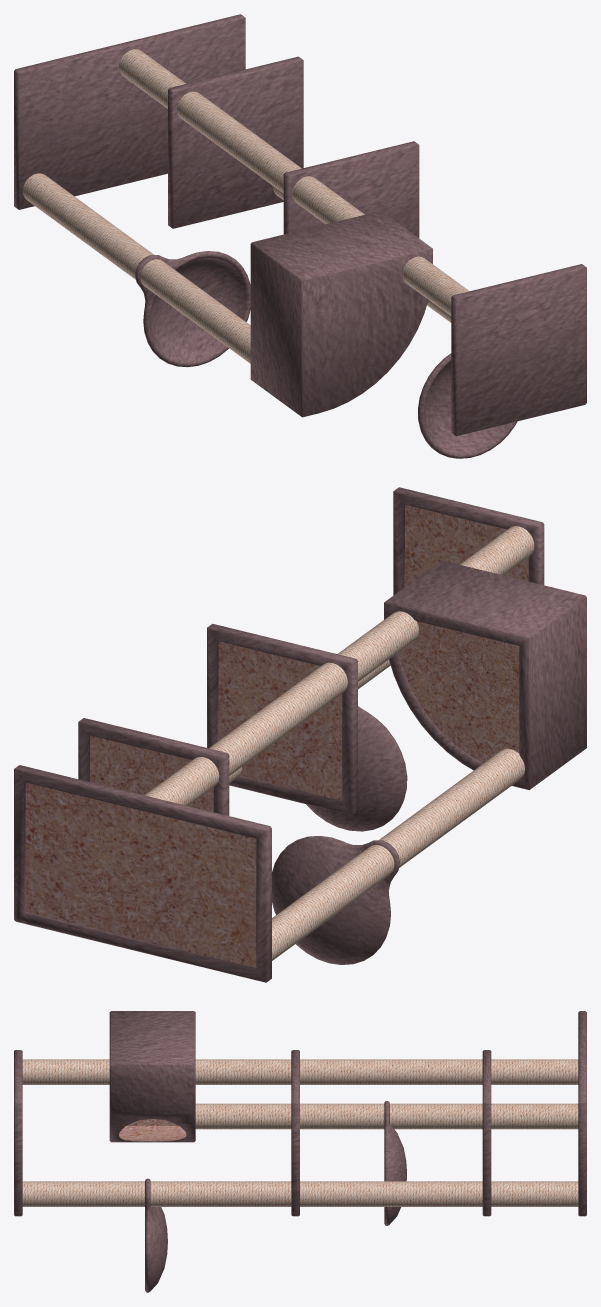
File: Cat climbing tower.obj
The picture shows the model from 3 angles, top to bottom: view 1: azimuth 30°, elevation 25°; view 2: azimuth 150°, elevation 25°; view 3: azimuth 270°, elevation 25°; orthographic projection. The views are drawn at different scales.
Visible parts, largest first — view 1: Cat_climbing_tower; view 2: Cat_climbing_tower; view 3: Cat_climbing_tower.
Part boxes in pixels (x1=…): Cat_climbing_tower: x1=14, y1=14, x2=586, y2=458; Cat_climbing_tower: x1=14, y1=487, x2=586, y2=982; Cat_climbing_tower: x1=14, y1=1011, x2=586, y2=1292.
Bounding box in the file's own units: 0.824 × 0.7673 × 2.
Materials: 3 (3 with a texture image).
